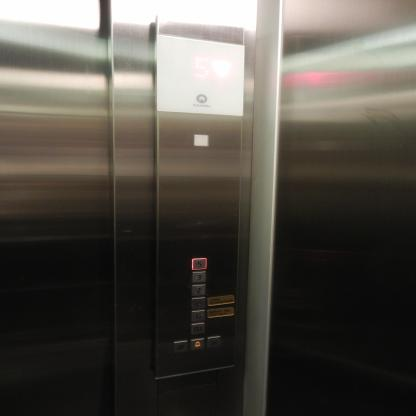2: (190, 283, 207, 297)
3: (190, 270, 208, 283)
5: (191, 256, 208, 271)
B1: (190, 322, 206, 336)
G: (190, 309, 206, 322)
L: (191, 296, 206, 310)
alarm: (190, 338, 204, 352)
close: (206, 335, 221, 349)
empty: (192, 132, 209, 148)
led: (153, 32, 246, 118)
open: (173, 339, 188, 355)
